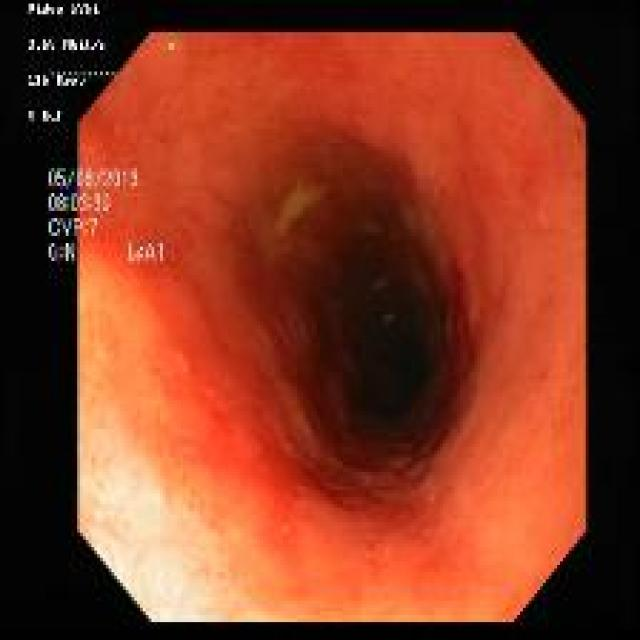ulcerative-colitis: (79, 33, 586, 621)
